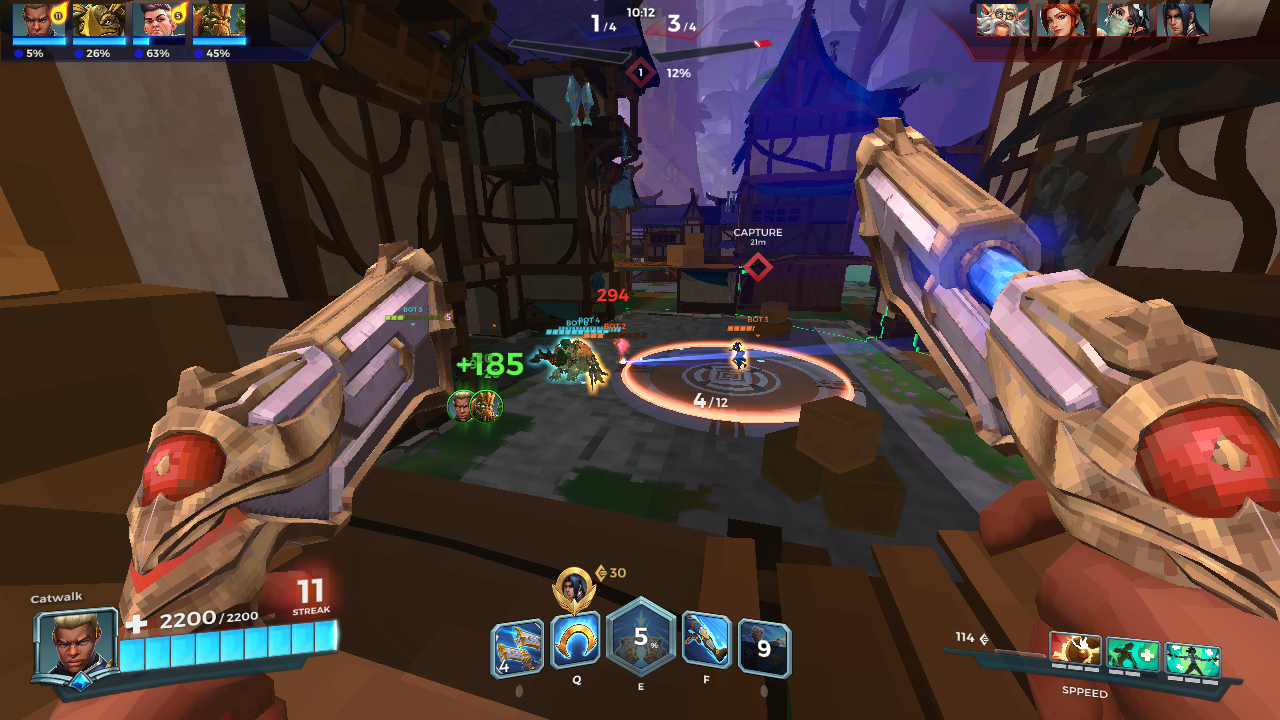model: (582, 346, 611, 387), (729, 336, 751, 379)
